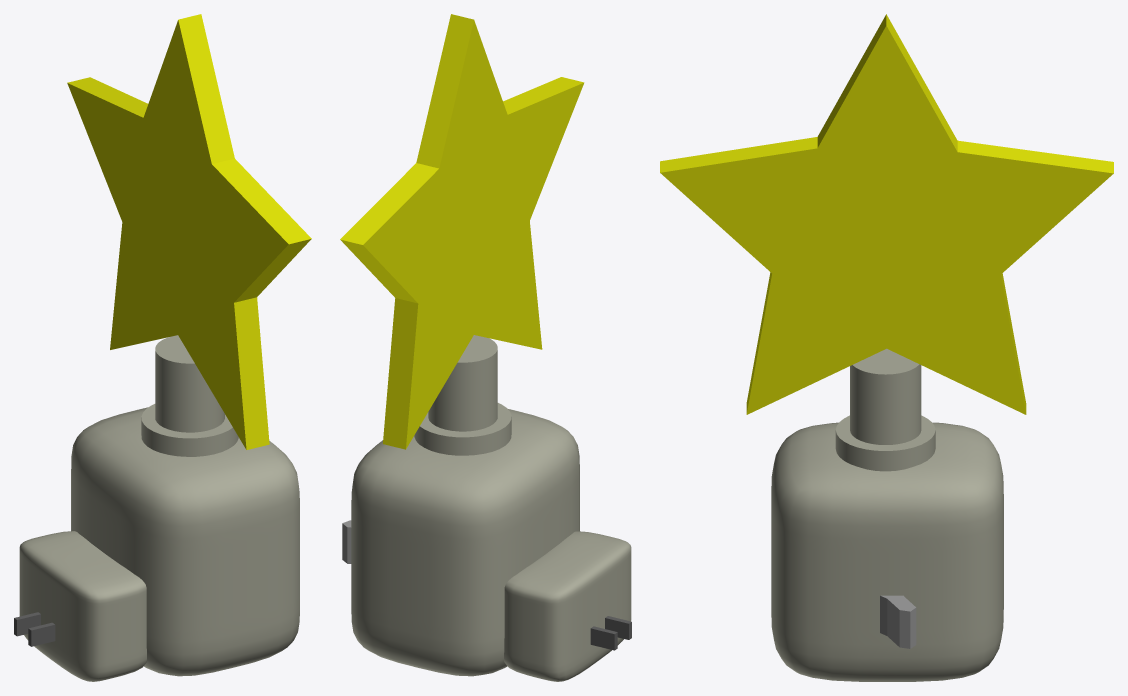
Rendered from EstrellaLamp.fbx.
The picture shows the model from 3 angles, left to right: view 1: azimuth 30°, elevation 25°; view 2: azimuth 150°, elevation 25°; view 3: azimuth 270°, elevation 25°; orthographic projection. The views are drawn at different scales.
Visible parts, largest first — view 1: Plano, Cubo, Cubo.001, Cilindro, Cubo.005, Cubo.004; view 2: Plano, Cubo, Cubo.001, Cilindro, Cubo.004, Cubo.005; view 3: Plano, Cubo, Cilindro, Cubo.002.
Part boxes in pixels (left/top/right/bottom): Plano: left=67, top=14, right=311, bottom=449; Cubo: left=71, top=407, right=299, bottom=676; Cubo.001: left=19, top=531, right=146, bottom=681; Cilindro: left=141, top=335, right=238, bottom=456; Cubo.005: left=28, top=622, right=55, bottom=646; Cubo.004: left=14, top=612, right=40, bottom=636; Plano: left=340, top=14, right=584, bottom=449; Cubo: left=351, top=409, right=579, bottom=676; Cubo.001: left=504, top=531, right=631, bottom=681; Cilindro: left=414, top=335, right=511, bottom=455; Cubo.004: left=590, top=626, right=617, bottom=650; Cubo.005: left=605, top=616, right=631, bottom=639; Plano: left=660, top=14, right=1113, bottom=414; Cubo: left=771, top=422, right=1003, bottom=681; Cilindro: left=835, top=348, right=935, bottom=471; Cubo.002: left=880, top=595, right=916, bottom=648.
Size of the model in its own units: 194 by 424 by 273.
